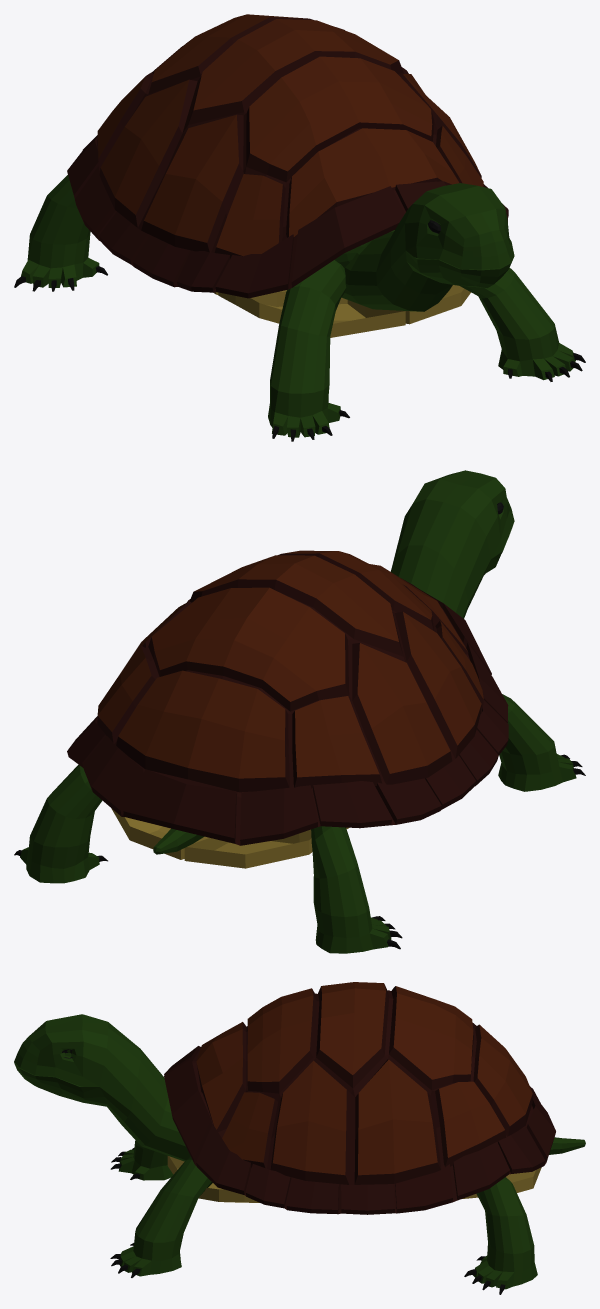
The model's file is turtle.fbx.
3 renders of one model, top to bottom at view 1: azimuth 30°, elevation 25°; view 2: azimuth 150°, elevation 25°; view 3: azimuth 270°, elevation 25°, orthographic. The views are drawn at different scales.
Visible parts, largest first — view 1: turtle; view 2: turtle; view 3: turtle.
Part boxes in pixels (bbox=[...]): turtle: bbox=[14, 14, 585, 441]; turtle: bbox=[14, 470, 585, 953]; turtle: bbox=[14, 982, 585, 1294].
Size of the model in its own units: 1402 by 954 by 2162.
